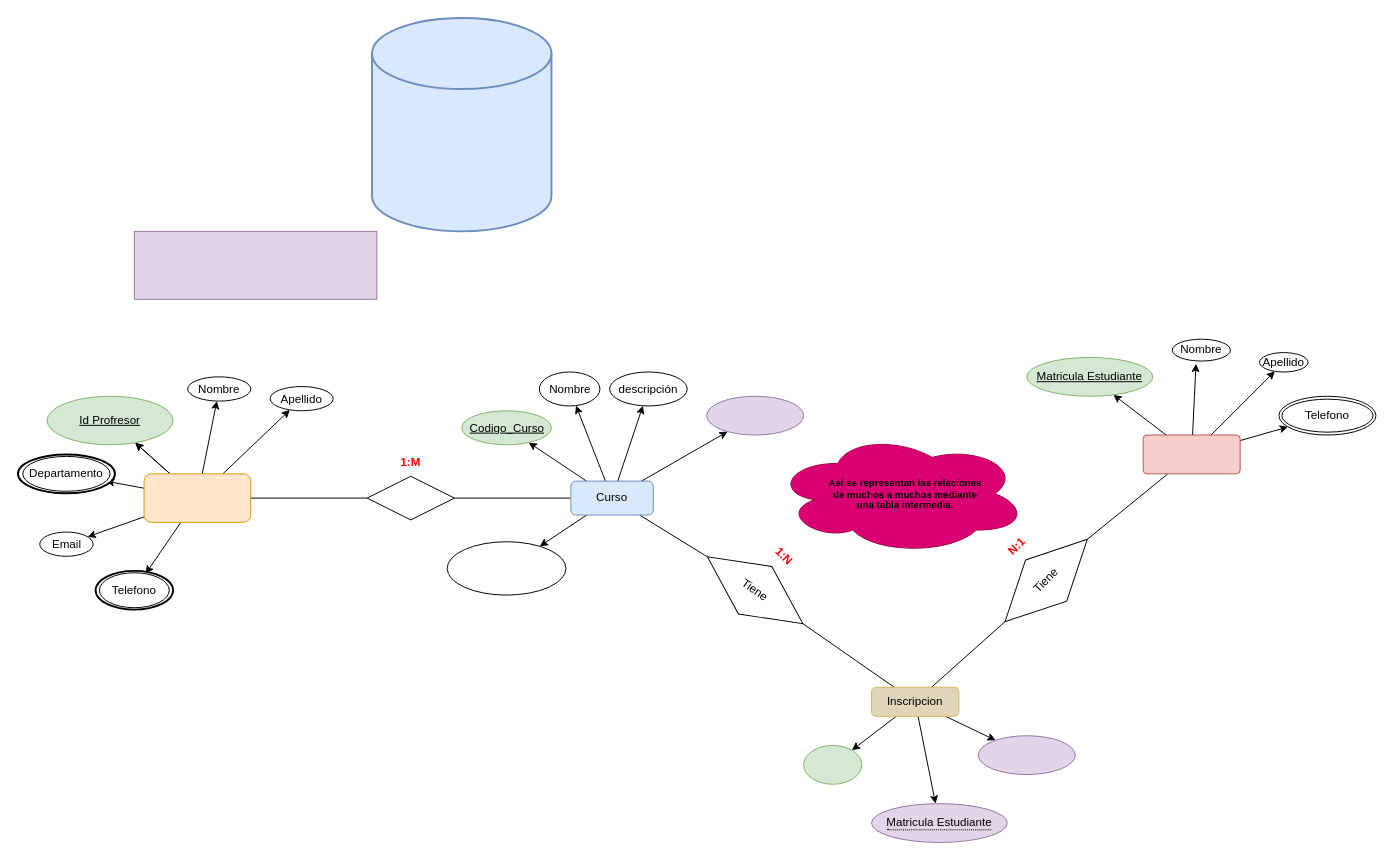
Some shapes in this 1393 by 859 pixel diagram are drawn without their labels. The shapes that lost their labels are listed below. From the top down, each one's box as (x1, y1, x2, y2) in pixels, then its label:
(371, 16, 552, 232): Primer diagrama ER.
(133, 230, 377, 299): Aquí está el primer ejemplo de inscripción de materias.
(706, 395, 804, 435): Id Profesor
(1142, 434, 1240, 474): Estudiante
(143, 473, 251, 522): Profesor
(366, 475, 454, 520): Imparte
(446, 541, 566, 595): Cantidad_Maxima
(803, 744, 862, 784): ID
(977, 735, 1075, 775): Codigo Curso
